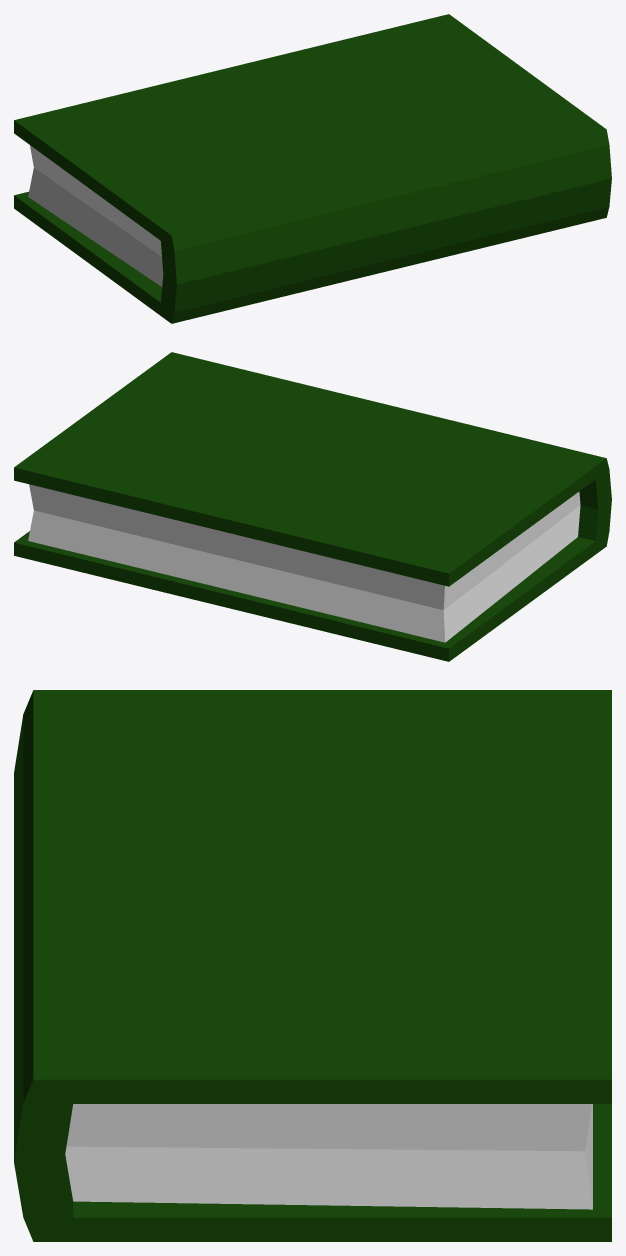
Rendered from book_c.fbx.
3 views of the same model, one above another, from view 1: azimuth 30°, elevation 25°; view 2: azimuth 150°, elevation 25°; view 3: azimuth 270°, elevation 25° (orthographic). The views are drawn at different scales.
Parts seen in each view (by area): view 1: Book_C; view 2: Book_C; view 3: Book_C.
Part boxes in pixels (x1,y1,x2,y2): Book_C: [14, 14, 611, 323]; Book_C: [14, 352, 611, 661]; Book_C: [14, 690, 611, 1241].
Bounding box in the file's own units: 0.4298 × 0.0834 × 0.2788.
